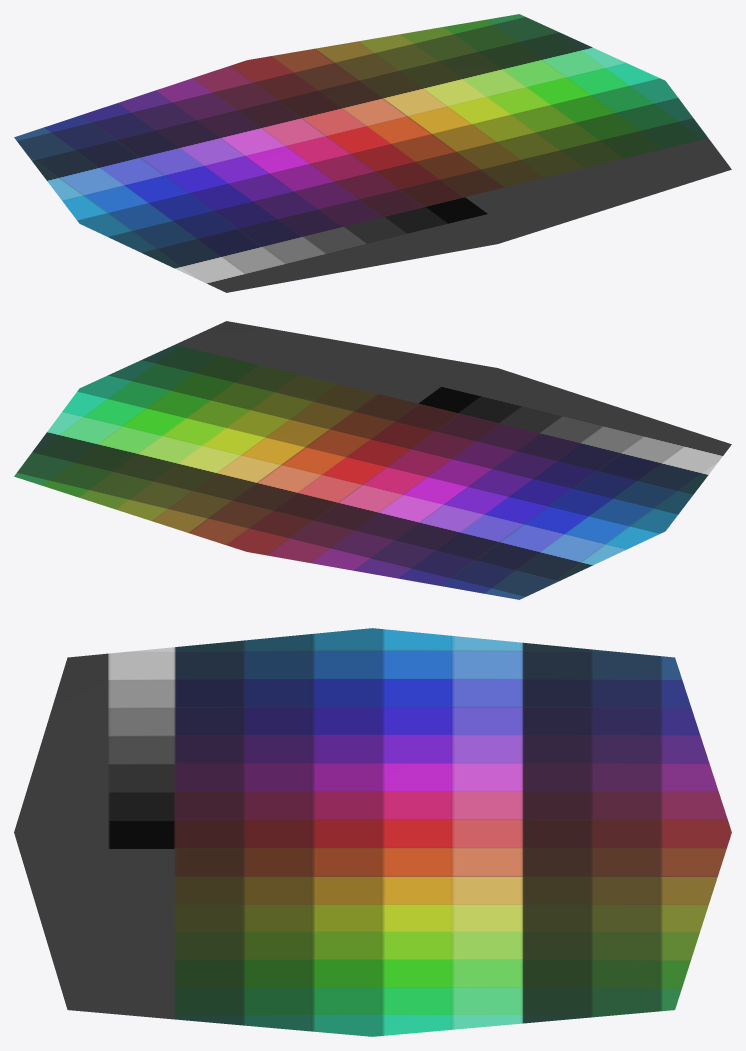
File: TV 01 Screen.FBX
The picture shows the model from 3 angles, top to bottom: view 1: azimuth 30°, elevation 25°; view 2: azimuth 150°, elevation 25°; view 3: azimuth 270°, elevation 25°; orthographic projection. The views are drawn at different scales.
Parts seen in each view (by area): view 1: TV 01 Screen; view 2: TV 01 Screen; view 3: TV 01 Screen.
Part boxes in pixels (<box>): TV 01 Screen: <box>14,14,731,292</box>; TV 01 Screen: <box>14,321,731,599</box>; TV 01 Screen: <box>14,628,731,1036</box>.
Bounding box in the file's own units: 97.23 × 0.1444 × 72.18.
